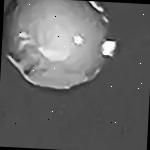colony: (0, 0, 119, 103), (146, 4, 150, 33)
